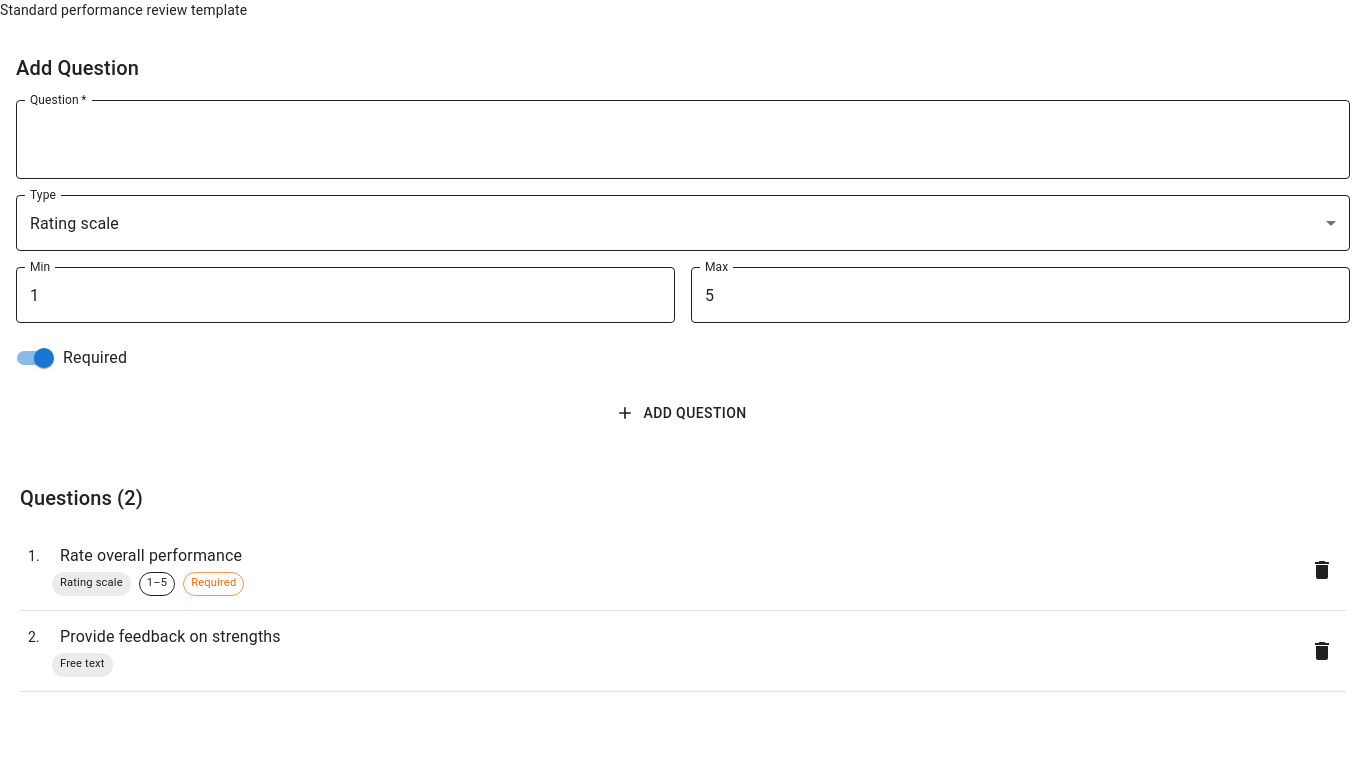
it: ReviewTemplateDetailClient › opens confirm dialog when delete is clicked
Click the button with test id "DeleteIcon": point(1322, 570) [1302,550,1342,590]
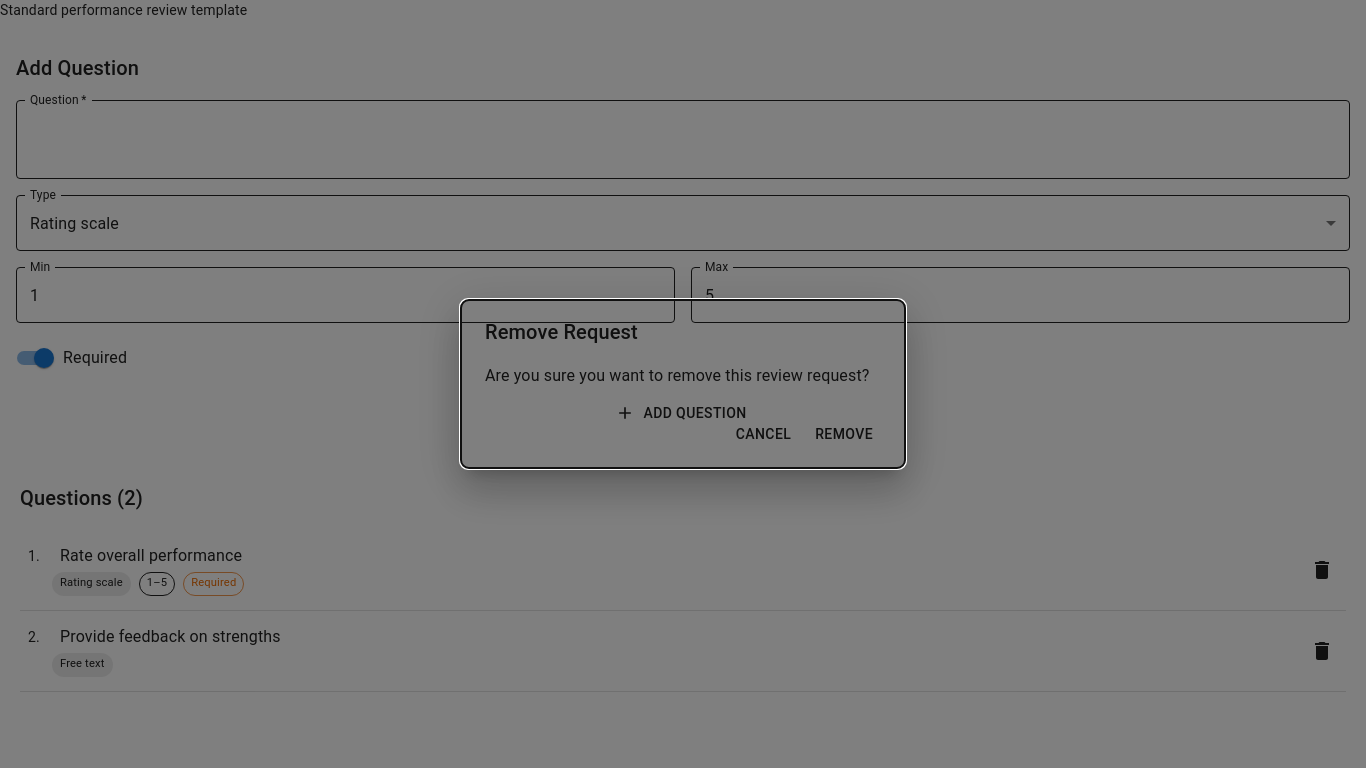
Expected: the text "Are you sure you want to remove this review request?" is shown, [485,364,881,388]
